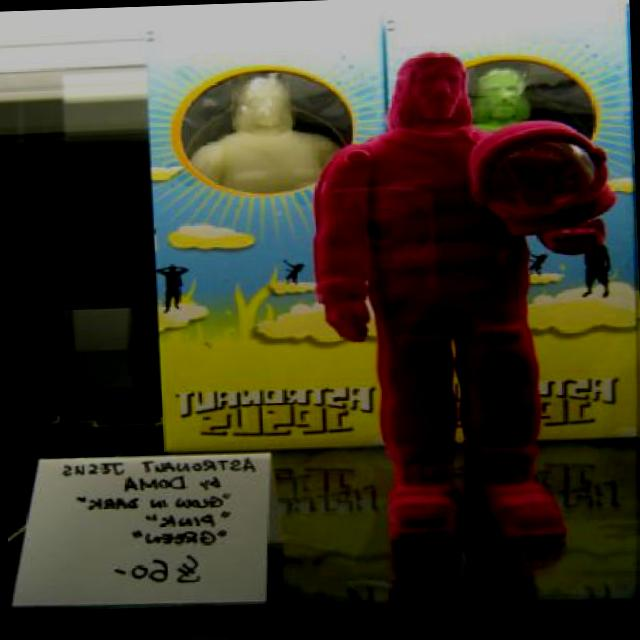Person: (304, 44, 628, 544), (192, 72, 342, 197), (461, 68, 534, 130), (156, 259, 192, 313), (580, 242, 612, 299), (286, 258, 306, 286), (524, 251, 546, 276)
